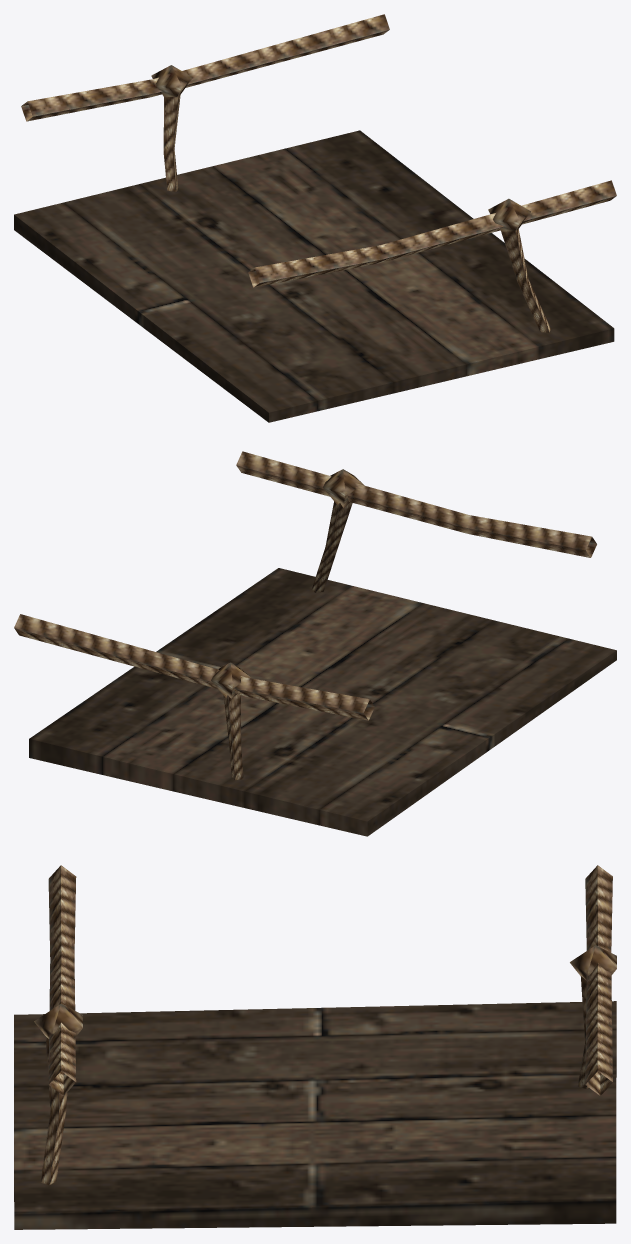
3 renders of one model, top to bottom at view 1: azimuth 30°, elevation 25°; view 2: azimuth 150°, elevation 25°; view 3: azimuth 270°, elevation 25°, orthographic. The views are drawn at different scales.
Parts seen in each view (by area): view 1: qq1; view 2: qq1; view 3: qq1.
Part boxes in pixels (bbox=[...]): qq1: bbox=[14, 14, 616, 422]; qq1: bbox=[14, 451, 616, 836]; qq1: bbox=[14, 865, 616, 1229].
Size of the model in its own units: 1308 by 518 by 1592.
